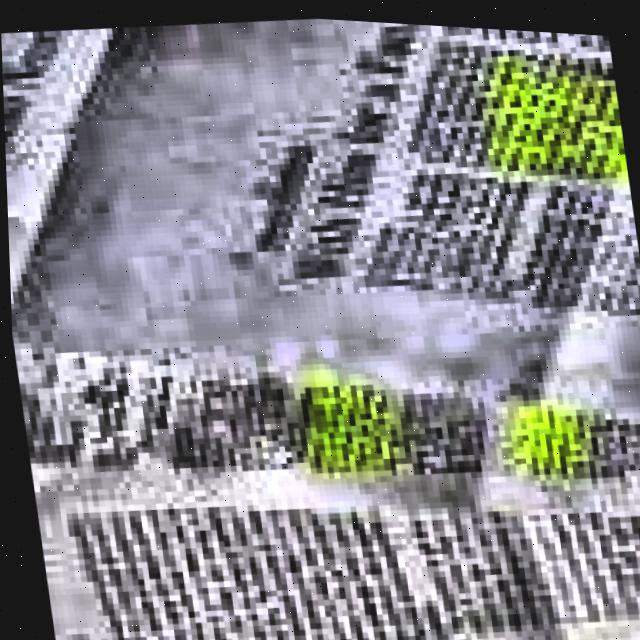paper: (9, 14, 640, 413)
